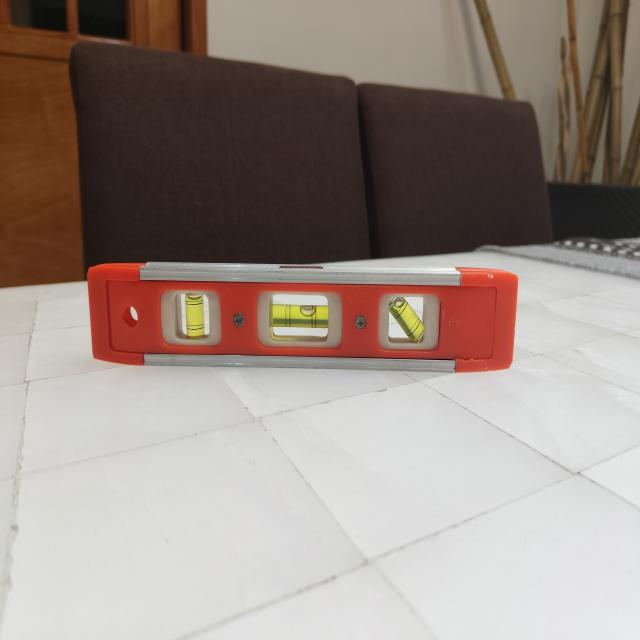Nivel: (48, 204, 586, 452)
